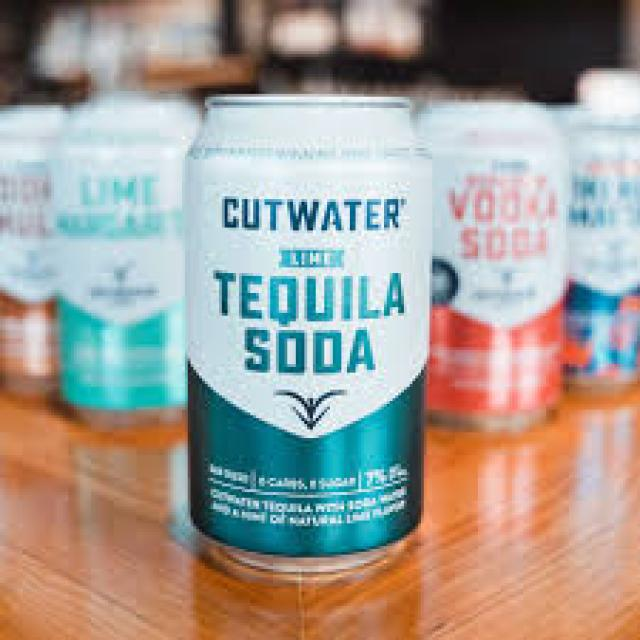Cans: (176, 85, 444, 580)
